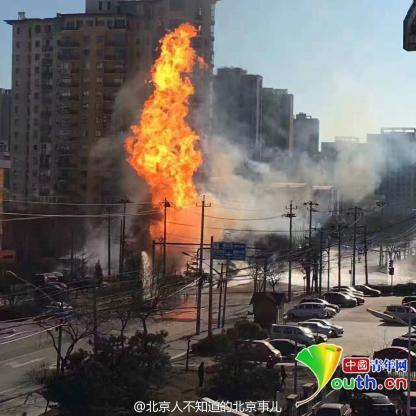fire: (125, 127, 197, 172), (142, 86, 186, 134), (146, 169, 196, 205), (162, 23, 195, 68), (151, 61, 181, 91), (165, 206, 183, 238), (150, 220, 164, 242)
